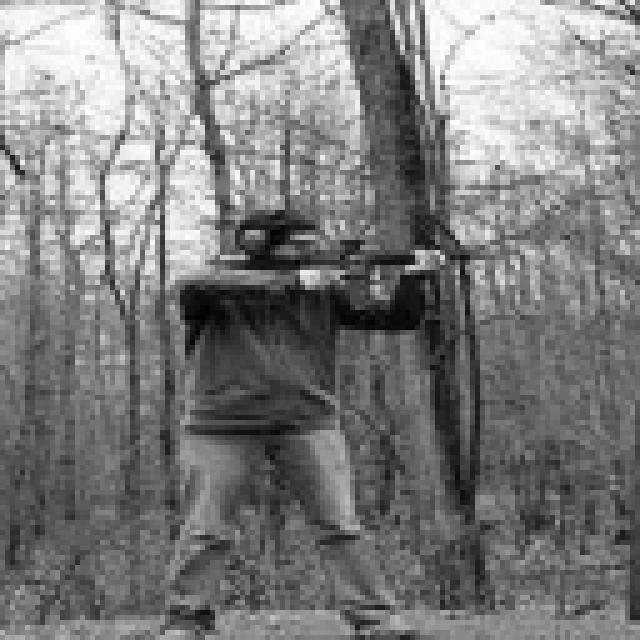Rifle: (192, 211, 514, 337)
